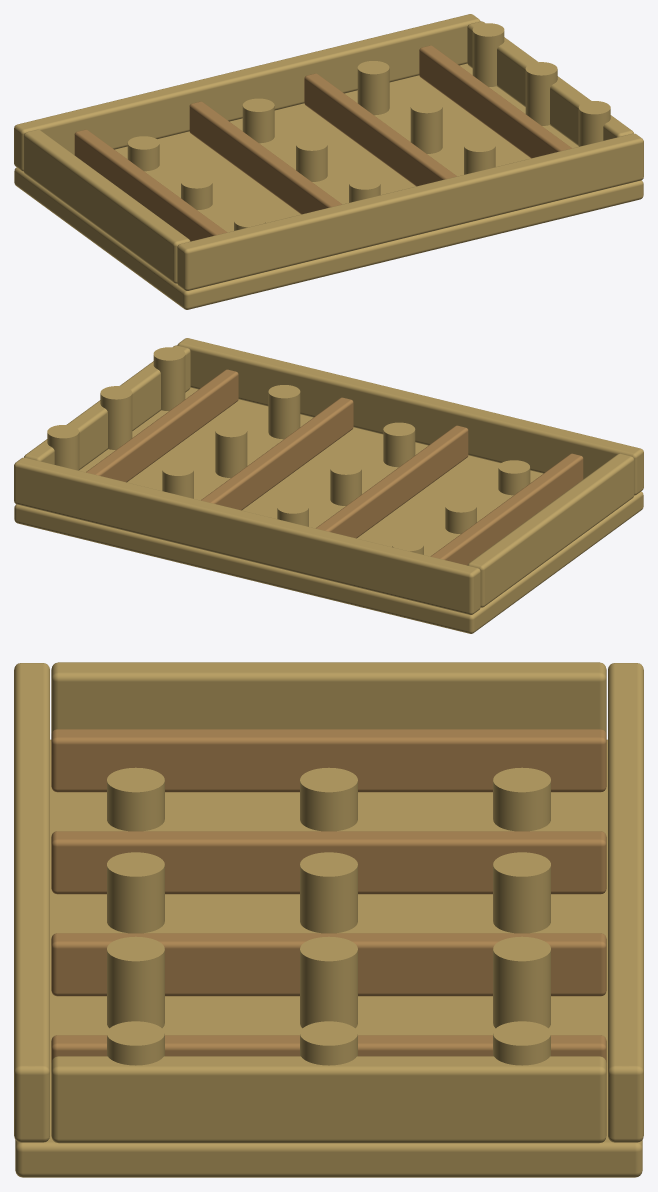
File: abandoned-puppet-theatre-and-prop-vault-joint-pin-tray-9b3d851e__31092.glb
The picture shows the model from 3 angles, top to bottom: view 1: azimuth 30°, elevation 25°; view 2: azimuth 150°, elevation 25°; view 3: azimuth 270°, elevation 25°; orthographic projection. The views are drawn at different scales.
Visible parts, largest first — view 1: joint-pin-tray; view 2: joint-pin-tray; view 3: joint-pin-tray.
Boxes of the visible parts, <box> form: joint-pin-tray: <box>14,14,643,309</box>; joint-pin-tray: <box>14,338,643,633</box>; joint-pin-tray: <box>14,662,643,1177</box>.
Size of the model in its own units: 0.401 by 0.06 by 0.261.
